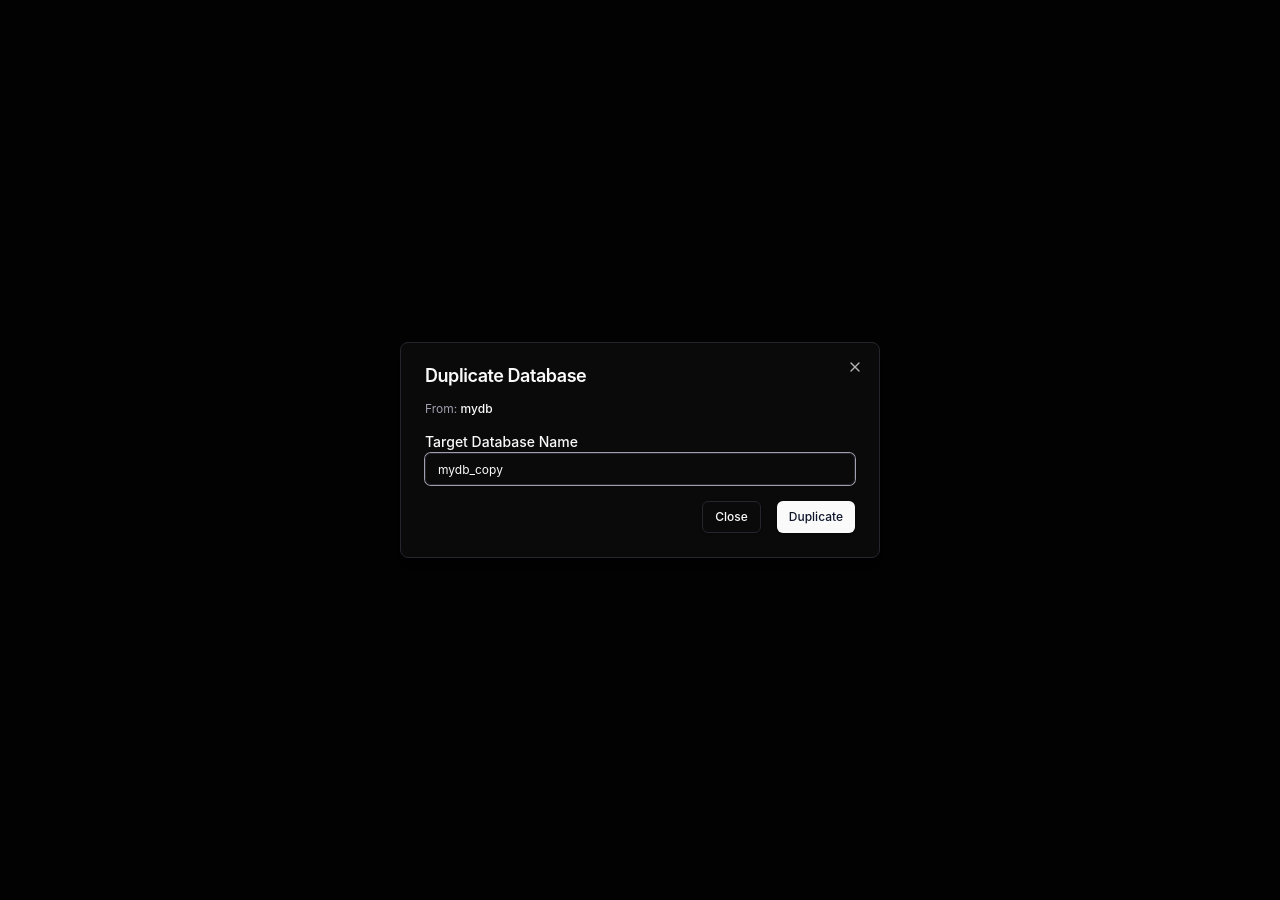
Test case: shows success message after duplicate completes
The image size is (1280, 900).
Click the button "Duplicate".
click(816, 517)  # box [777,501,855,533]
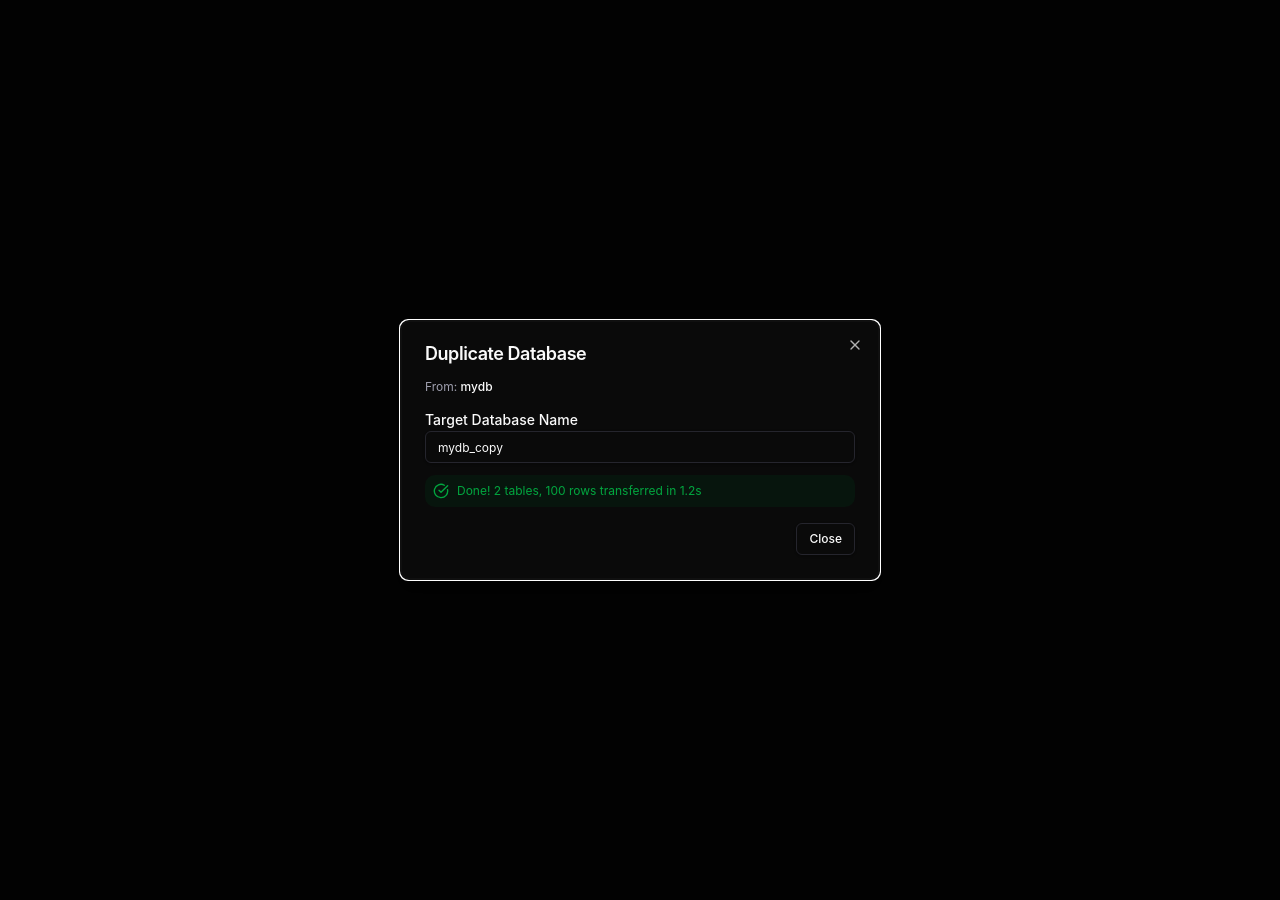
Now the text "Done! 2 tables, 100 rows transferred in 1.2s" is shown, box [425,475,855,507]
